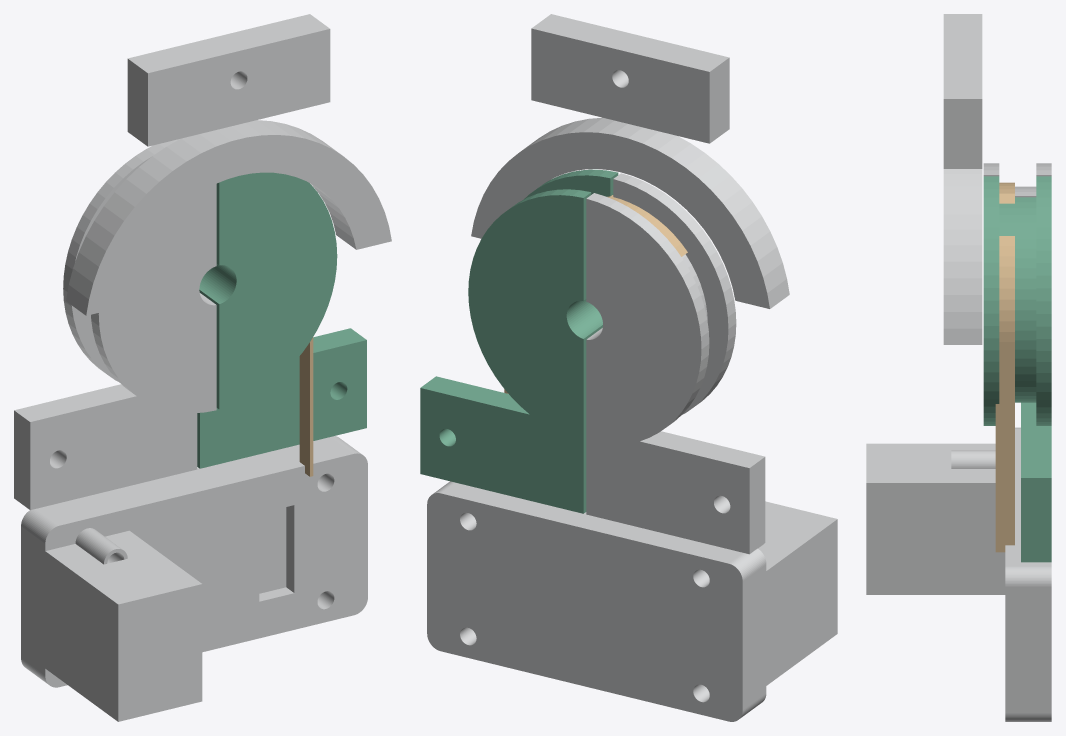
File: tail_former.glb
3 renders of one model, left to right at view 1: azimuth 30°, elevation 25°; view 2: azimuth 150°, elevation 25°; view 3: azimuth 270°, elevation 25°, orthographic. The views are drawn at different scales.
Visible parts, largest first — view 1: T04_tail_blank_clamp, T03_tail_sweep_shoe, T01_tail_former_left, T02_tail_former_right, tail_blank_wet; view 2: T04_tail_blank_clamp, T01_tail_former_left, T02_tail_former_right, T03_tail_sweep_shoe, tail_blank_wet; view 3: T04_tail_blank_clamp, T02_tail_former_right, T03_tail_sweep_shoe, tail_blank_wet, T01_tail_former_left.
Part boxes in pixels (x1,y1,x2,y2): T04_tail_blank_clamp: (21,436,367,721); T03_tail_sweep_shoe: (66,14,391,315); T01_tail_former_left: (14,139,216,510); T02_tail_former_right: (197,172,366,468); tail_blank_wet: (299,337,313,476); T04_tail_blank_clamp: (427,481,837,721); T01_tail_former_left: (586,173,765,554); T02_tail_former_right: (420,169,618,513); T03_tail_sweep_shoe: (471,14,789,308); tail_blank_wet: (504,195,687,393); T04_tail_blank_clamp: (866,427,1051,721); T02_tail_former_right: (983,176,1051,562); T03_tail_sweep_shoe: (943,14,982,344); tail_blank_wet: (995,182,1014,552); T01_tail_former_left: (983,163,1051,197).
Bounding box in the file's own units: 48 × 85 × 24.
